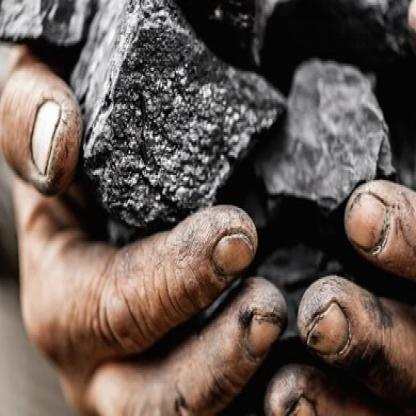Sedimentary_coal: (59, 7, 271, 203), (282, 40, 393, 214)
